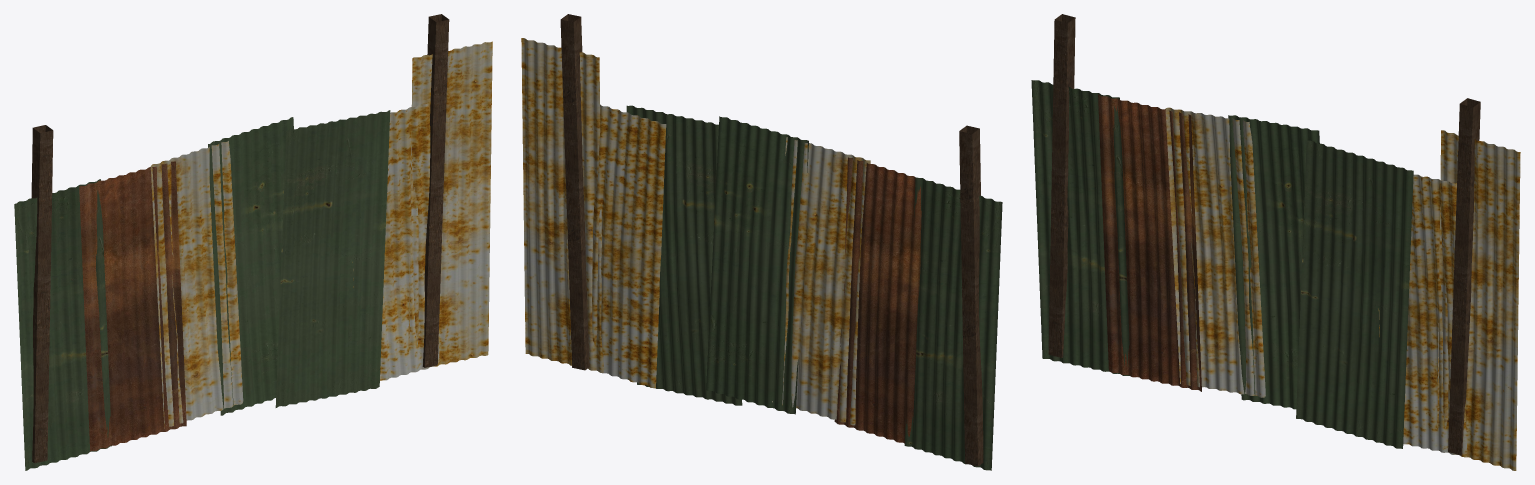
The model's file is sac_cit_c.gltf.
3 views of the same model, side by side, from view 1: azimuth 30°, elevation 25°; view 2: azimuth 150°, elevation 25°; view 3: azimuth 330°, elevation 25° (orthographic). The views are drawn at different scales.
Parts seen in each view (by area): view 1: sac_cit_c; view 2: sac_cit_c; view 3: sac_cit_c.
Boxes of the visible parts, <box> form: sac_cit_c: <box>14,14,492,470</box>; sac_cit_c: <box>521,14,1002,470</box>; sac_cit_c: <box>1031,14,1520,470</box>.
Size of what is drawn, in the model's own units: 3.67 by 2.58 by 0.1159.
4 materials, 4 textured.
